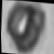correct: (2, 0, 51, 54)
